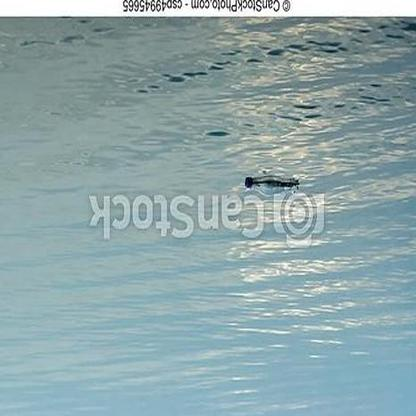plastic bottle: (245, 175, 300, 190)
